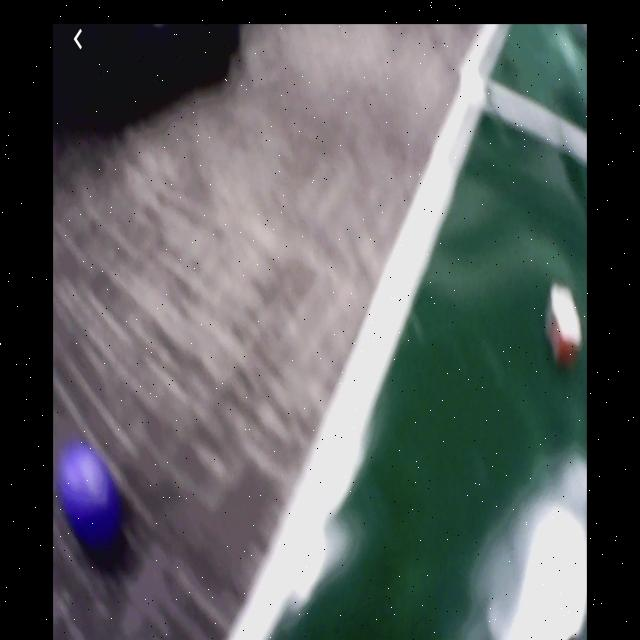ball: (59, 443, 119, 545)
